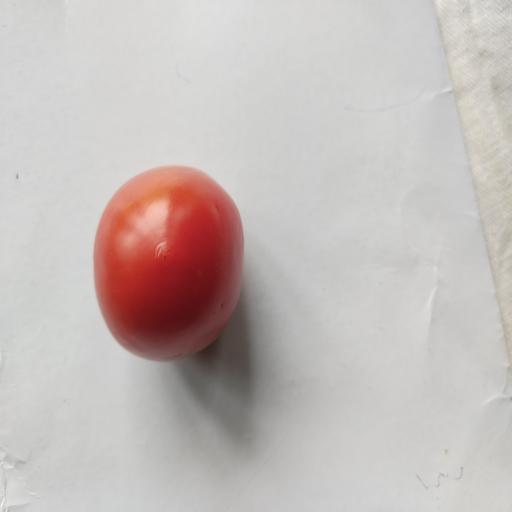ripe: (94, 167, 244, 360)
